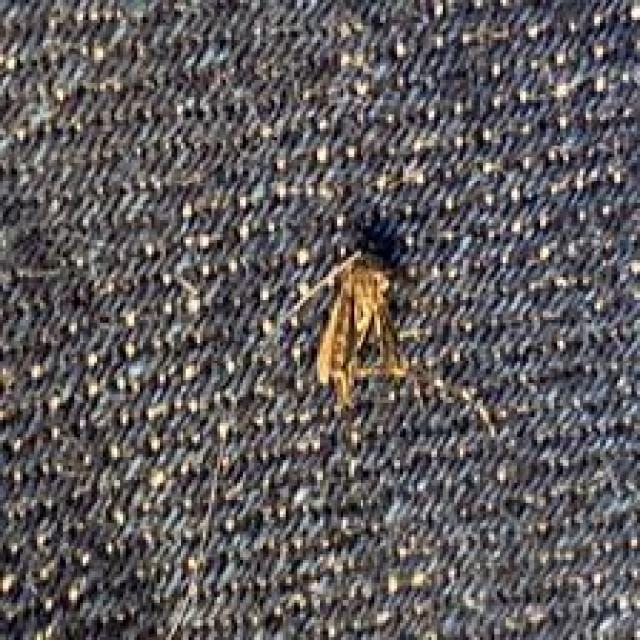Aedes albopictus: (287, 249, 424, 414)
